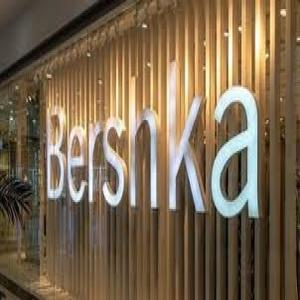bershka: (43, 48, 265, 225)
